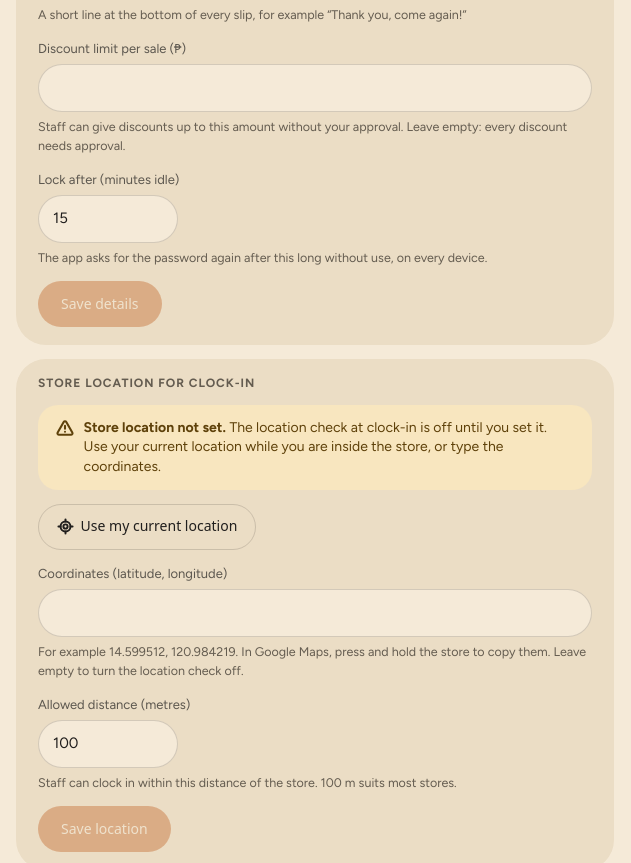
Scenario: Settings > Store (SYS-01) › warns when the reading is too rough to trust
This screenshot has width=631, height=863.
(page scrolled)
Click the button "Use my current location" at (147, 527), box x1=38 y1=504 x2=256 y2=550
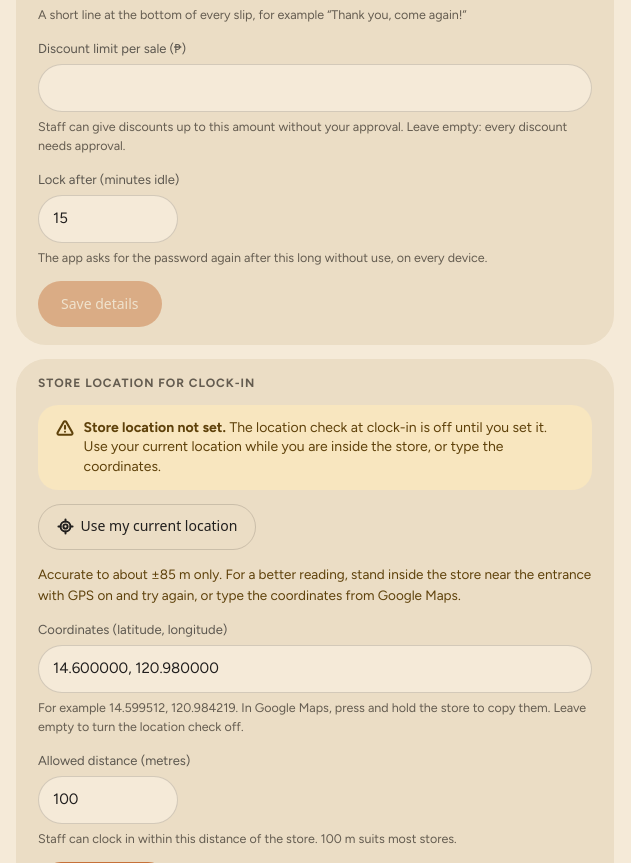
Now the text "Accurate to about ±85 m only" is shown, box x1=38 y1=566 x2=591 y2=603
